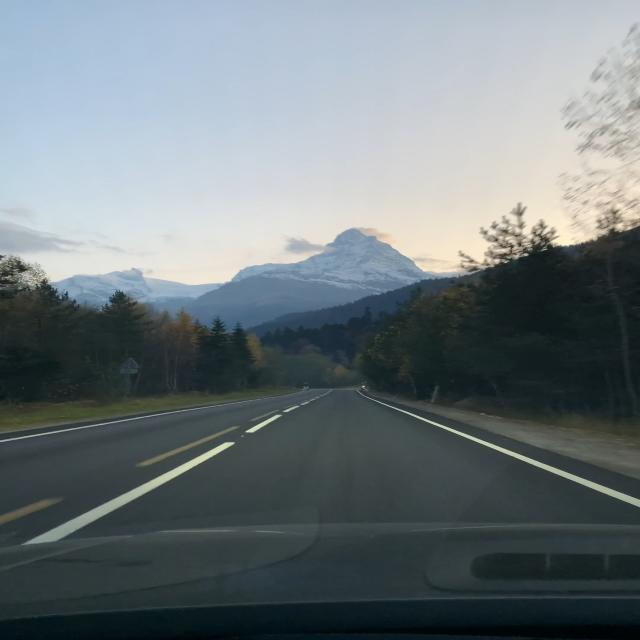asphalt: (0, 389, 640, 547)
